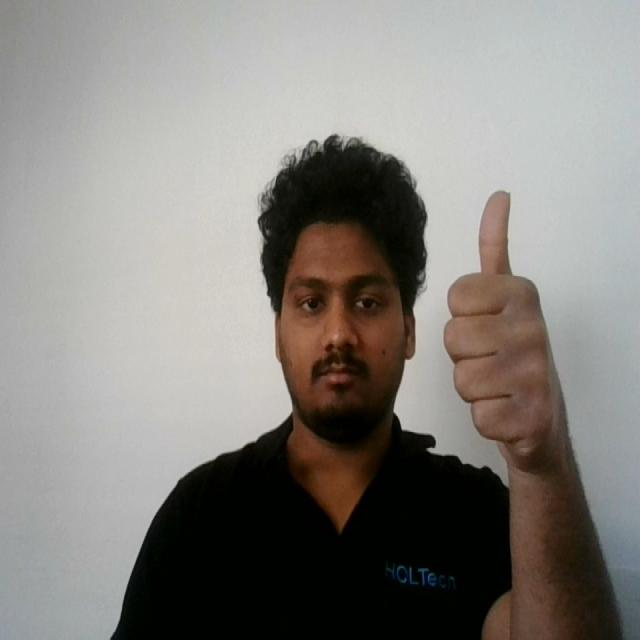Yes: (435, 180, 579, 479)
